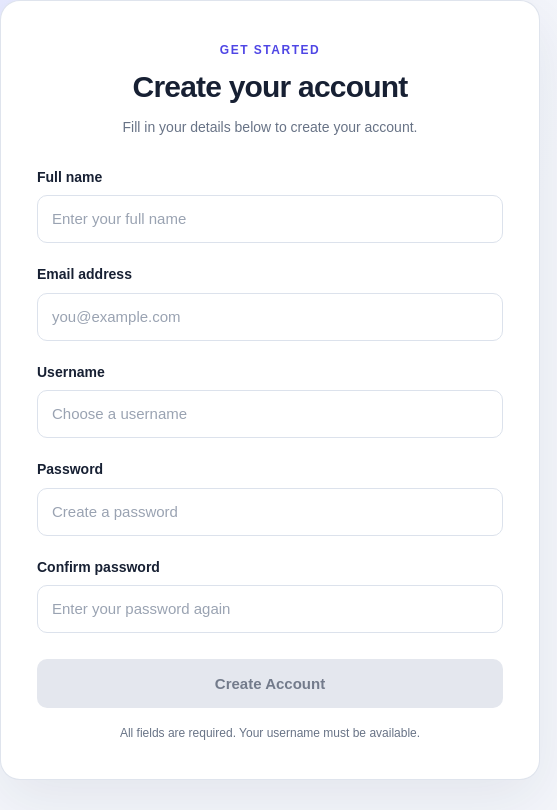
ComplexForm › allows submission when all fields are valid
This screenshot has width=557, height=810.
Type "Samaya Quliyeva" into the field labelled "Full name" at (270, 220), box [37,196,503,244]
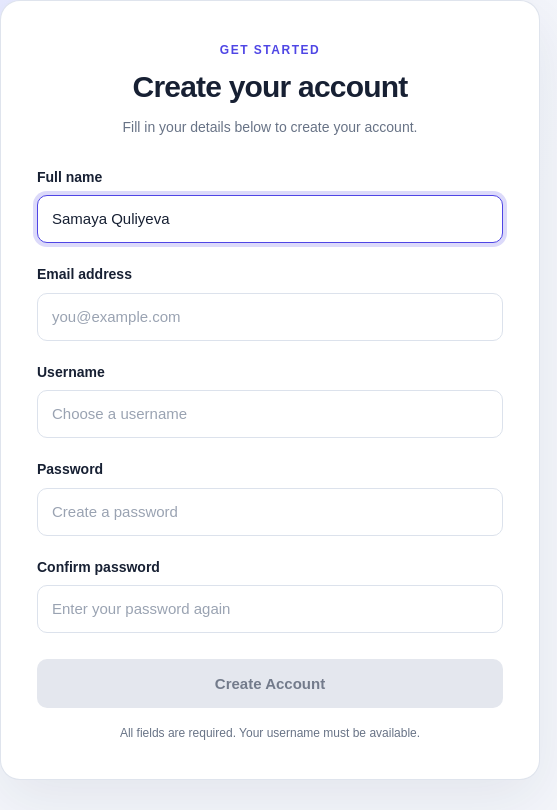
Type "samaya@example.com" into the field labelled "Email address" at (270, 317), box [37,293,503,341]
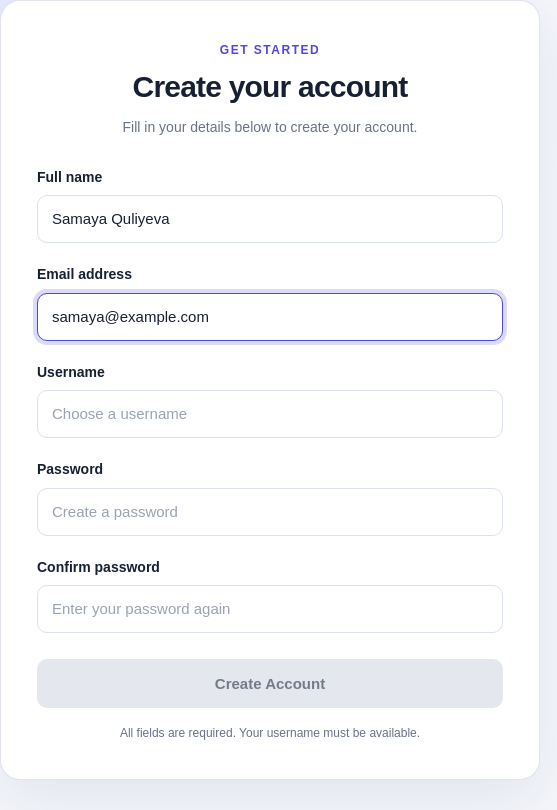
Type "samaya123" into the field labelled "Username" at (270, 414), box [37,390,503,438]
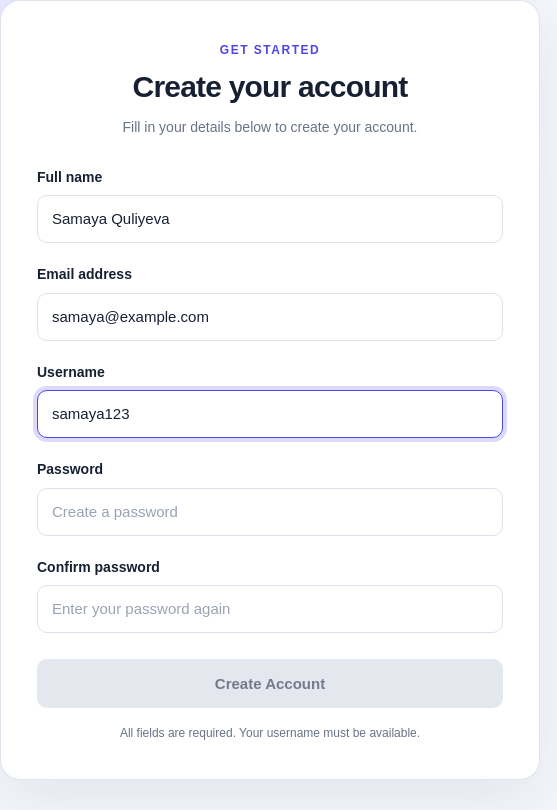
Type "Password123" into the password field labelled "Password" at (270, 512), box [37,488,503,536]
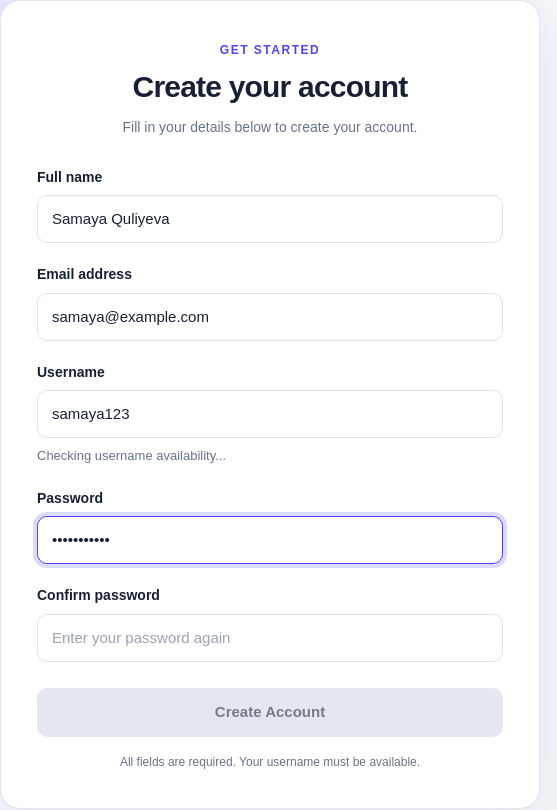
Type "Password123" into the password field labelled "Confirm password" at (270, 638), box [37,614,503,662]
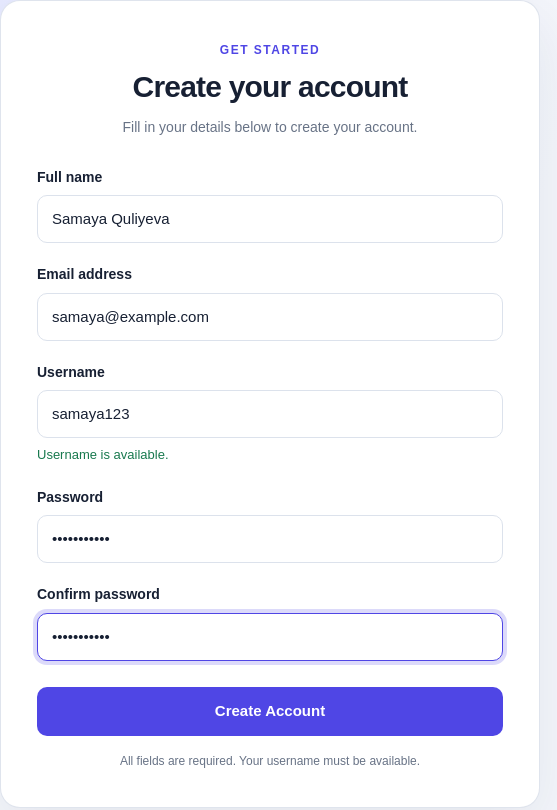
Expected: the text "Username is available." is shown, [37,447,168,462]
Expected: the button "Create Account" is enabled
Click the button "Create Account" at (270, 711), box [37,687,503,736]
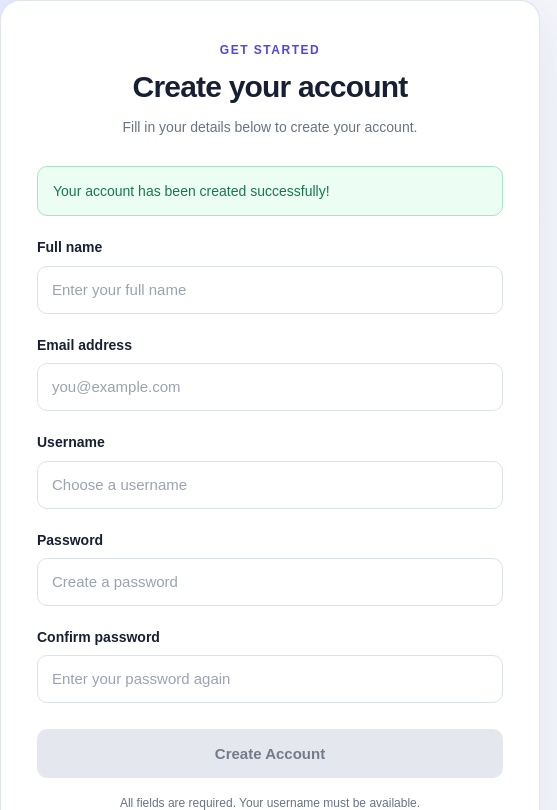
Expected: the text "Your account has been created successfully!" is shown, [37,166,503,216]
